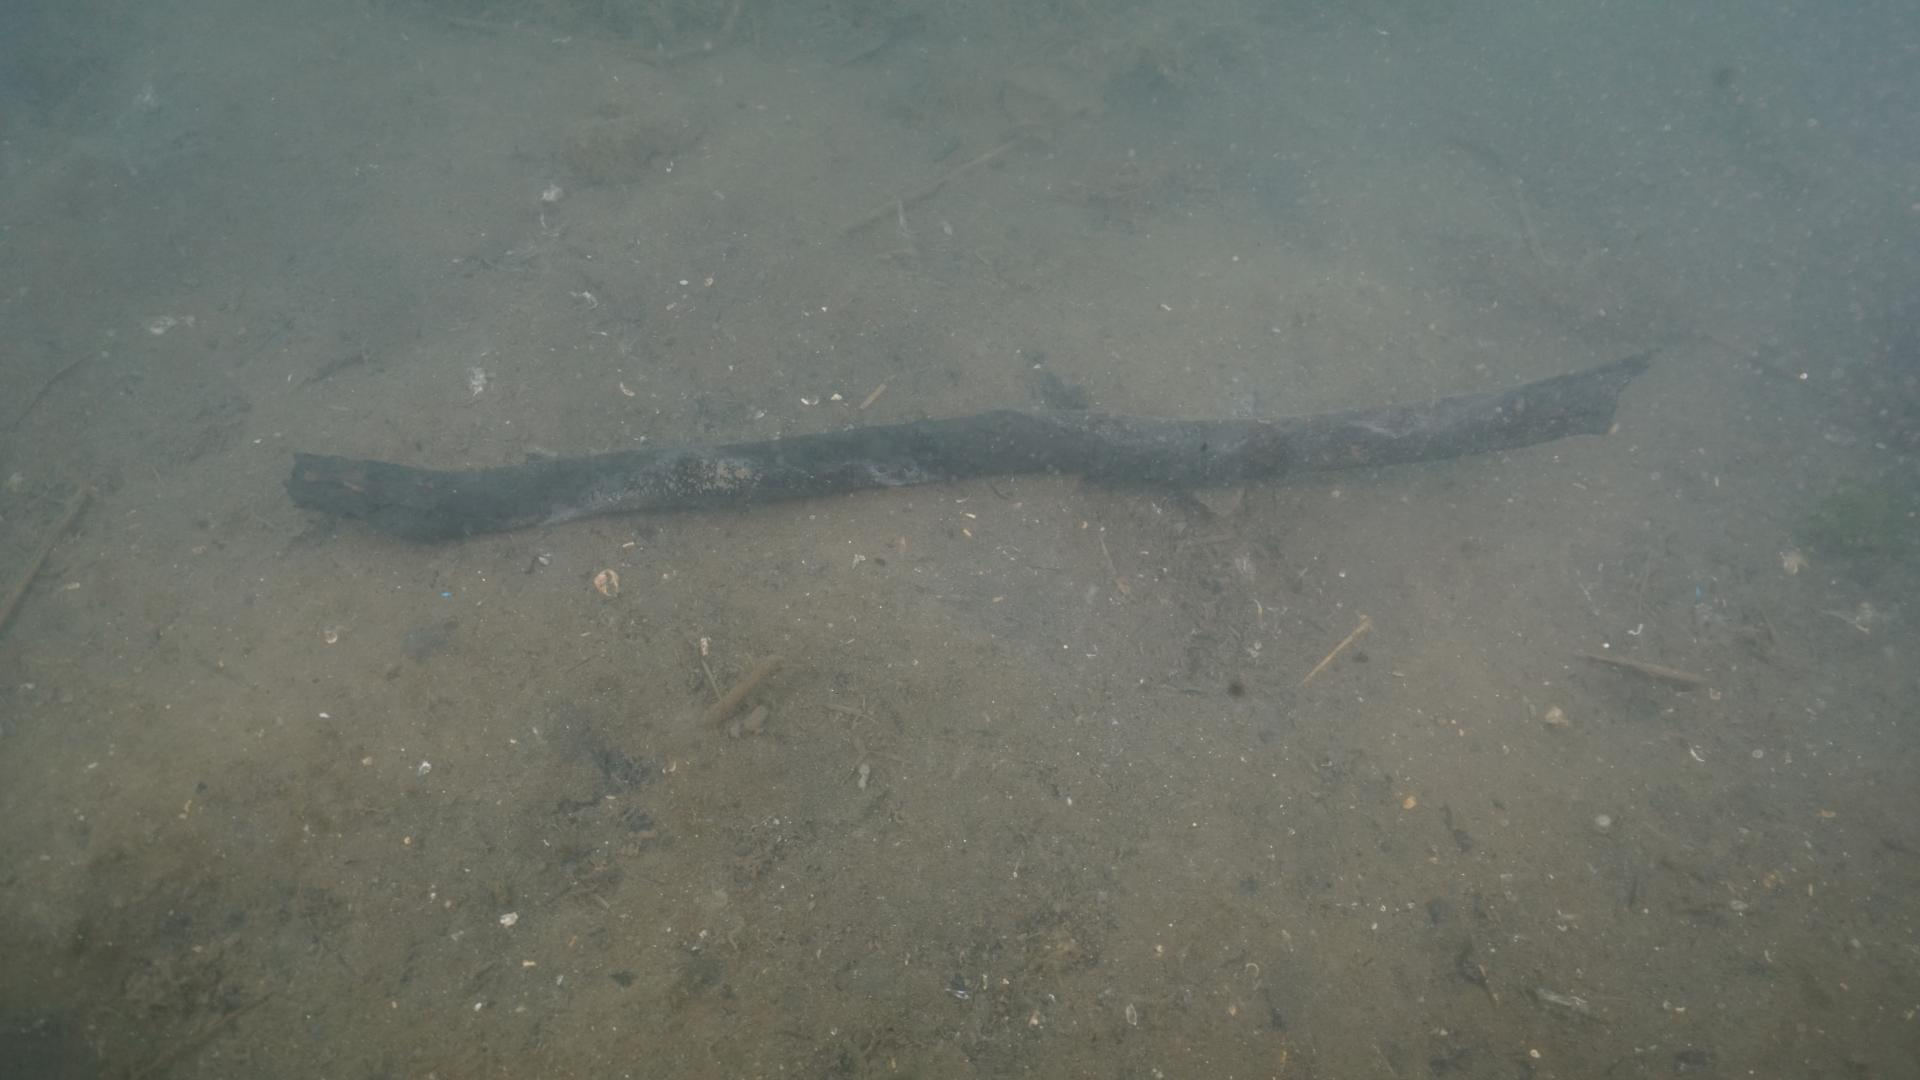wood: (285, 351, 1654, 541)
